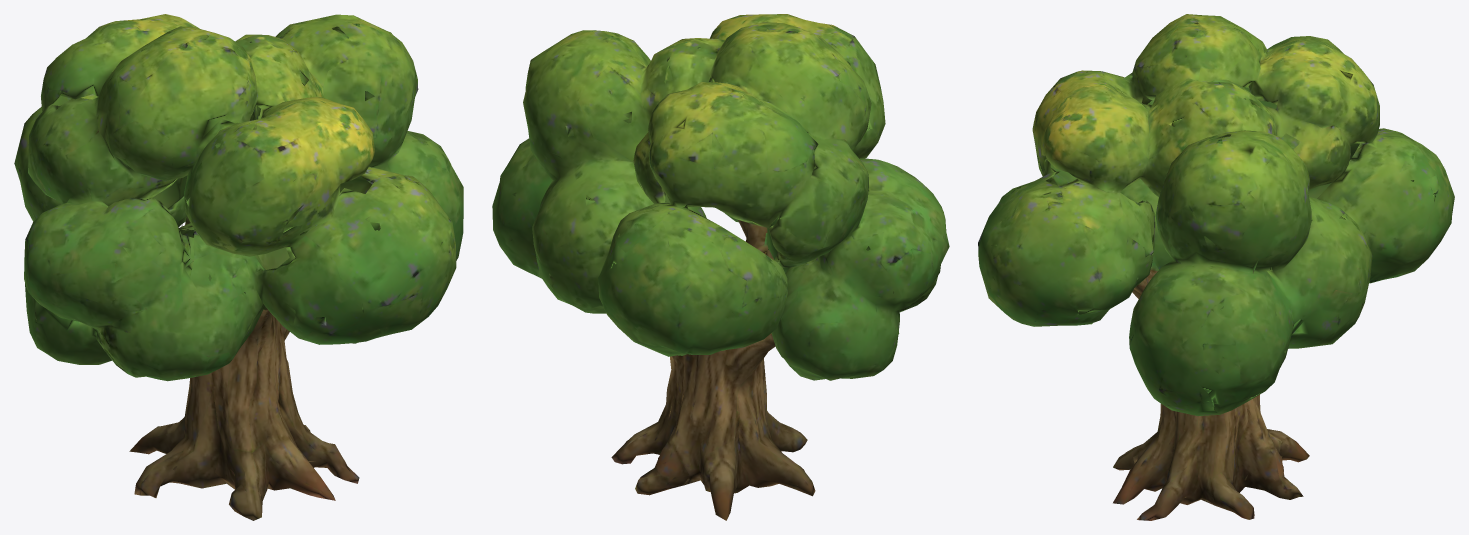
File: elwynntreecanopy01.glb
3 views of the same model, side by side, from view 1: azimuth 30°, elevation 25°; view 2: azimuth 150°, elevation 25°; view 3: azimuth 270°, elevation 25° (orthographic). The views are drawn at different scales.
Visible parts, largest first — view 1: world; view 2: world; view 3: world.
Part boxes in pixels (box(x1,y1,x2,y2)): world: box(14, 14, 463, 520); world: box(492, 14, 949, 520); world: box(978, 14, 1454, 520).
Bounding box in the file's own units: 0.9666 × 0.9773 × 0.9736.
Materials: 1 (1 with a texture image).
